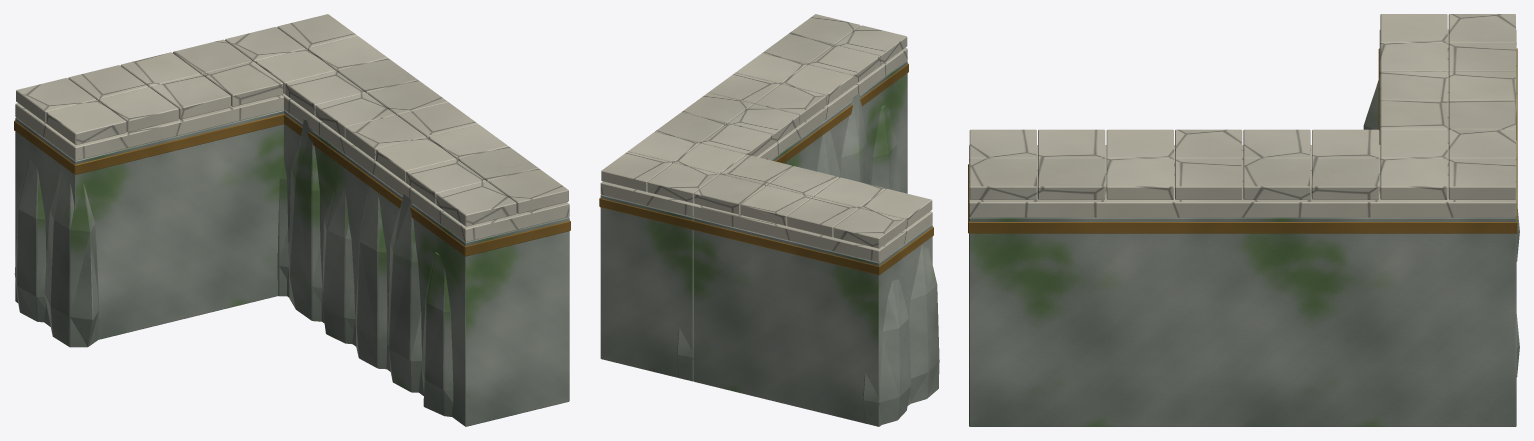
The model's file is t03_shore_inner.fbx.
3 renders of one model, left to right at view 1: azimuth 30°, elevation 25°; view 2: azimuth 150°, elevation 25°; view 3: azimuth 270°, elevation 25°, orthographic. The views are drawn at different scales.
Visible parts, largest first — view 1: t03_shore_inner.004; view 2: t03_shore_inner.004; view 3: t03_shore_inner.004.
Boxes of the visible parts, box(x1,y1,x2,y2) form: t03_shore_inner.004: box(14, 14, 570, 426); t03_shore_inner.004: box(599, 14, 939, 426); t03_shore_inner.004: box(968, 14, 1519, 426).
Bounding box in the file's own units: 51607 × 39794 × 24800.
